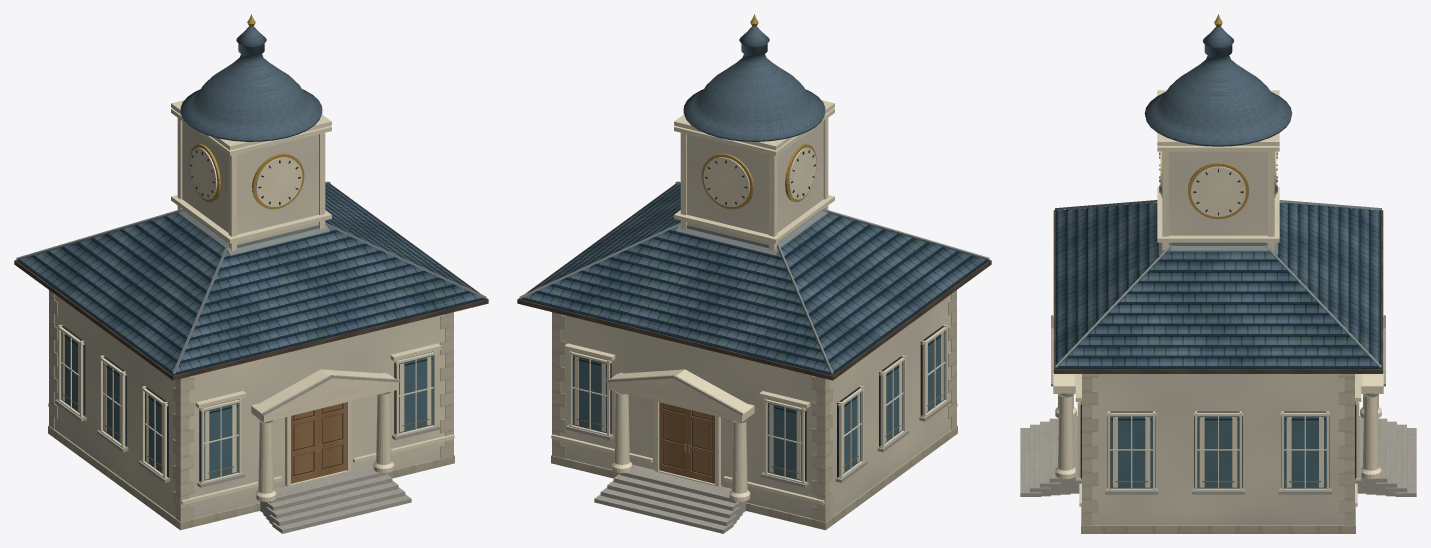
Rendered from townhall-crafted.glb.
3 views of the same model, side by side, from view 1: azimuth 30°, elevation 25°; view 2: azimuth 150°, elevation 25°; view 3: azimuth 270°, elevation 25° (orthographic). The views are drawn at different scales.
Visible parts, largest first — view 1: townhall authored architecture; view 2: townhall authored architecture; view 3: townhall authored architecture.
Boxes of the visible parts, x1,y1,x2,y2 form: townhall authored architecture: (14, 14, 488, 533); townhall authored architecture: (517, 14, 991, 533); townhall authored architecture: (1020, 14, 1416, 533).
Bounding box in the file's own units: 13.94 × 18.32 × 14.61.
1 material, 1 textured.
